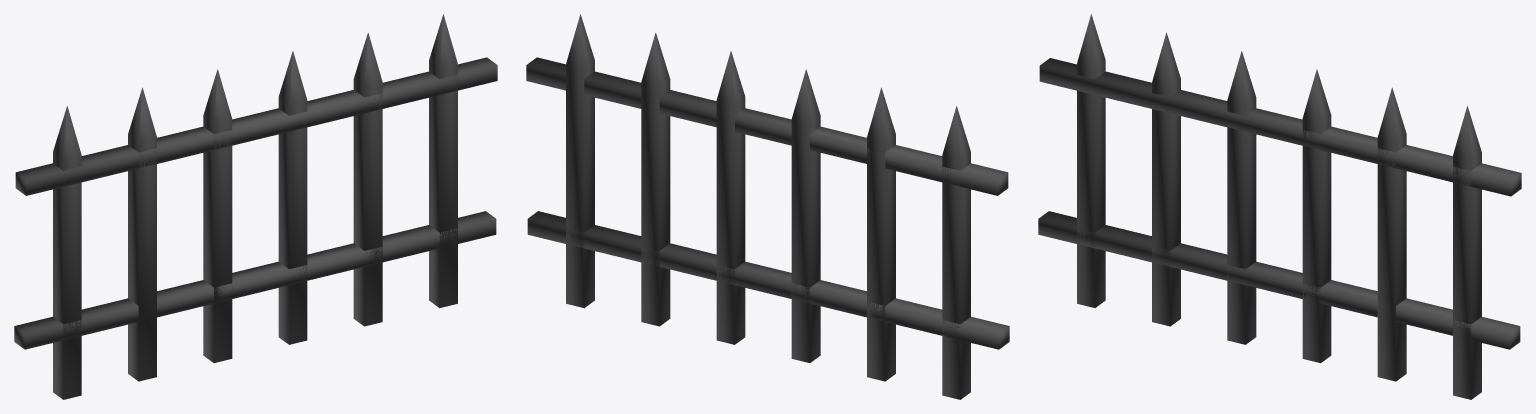
File: fence.fbx
The picture shows the model from 3 angles, left to right: view 1: azimuth 30°, elevation 25°; view 2: azimuth 150°, elevation 25°; view 3: azimuth 330°, elevation 25°; orthographic projection.
Visible parts, largest first — view 1: Fence; view 2: Fence; view 3: Fence.
Part boxes in pixels (x1,y1,x2,y2): Fence: (14,14,497,399); Fence: (526,14,1009,399); Fence: (1038,14,1521,399).
Size of the model in its own units: 570 by 332 by 22.
